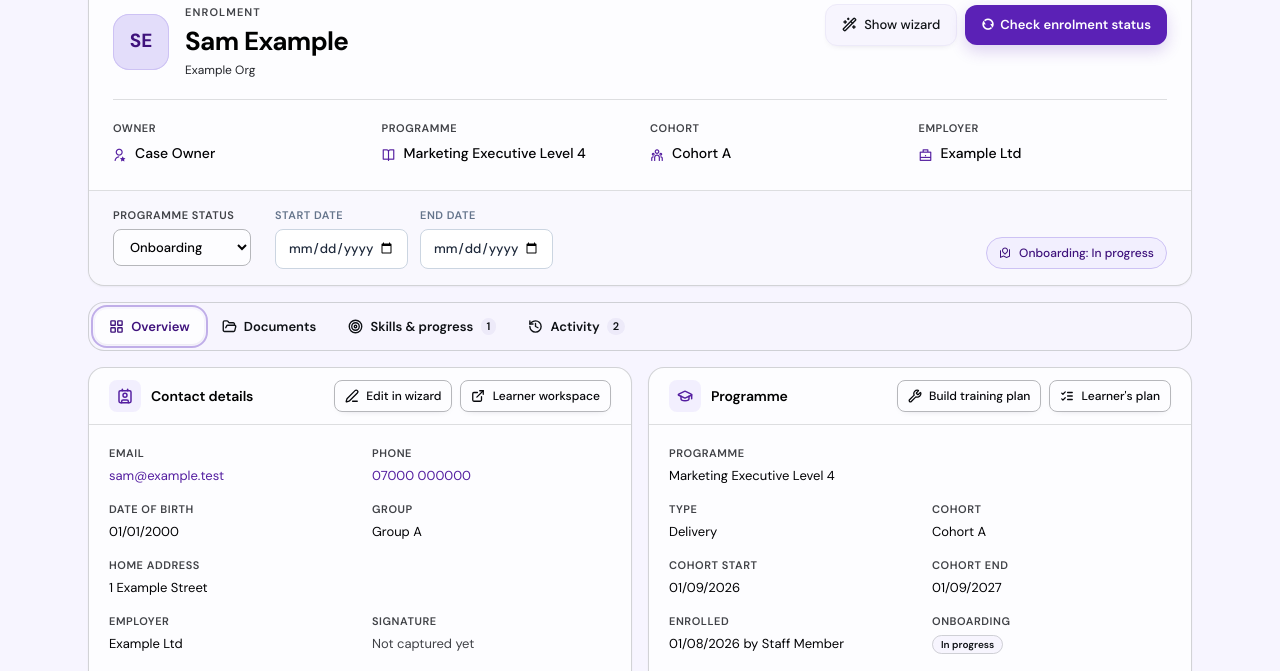
Test case: the enrolment board › switches tabs from the keyboard and keeps the tab in the address
expect the heading "Sam Example" is shown: met, box [185,24,348,57]
Press ArrowRight in the tab "Overview", box [95,308,204,344]
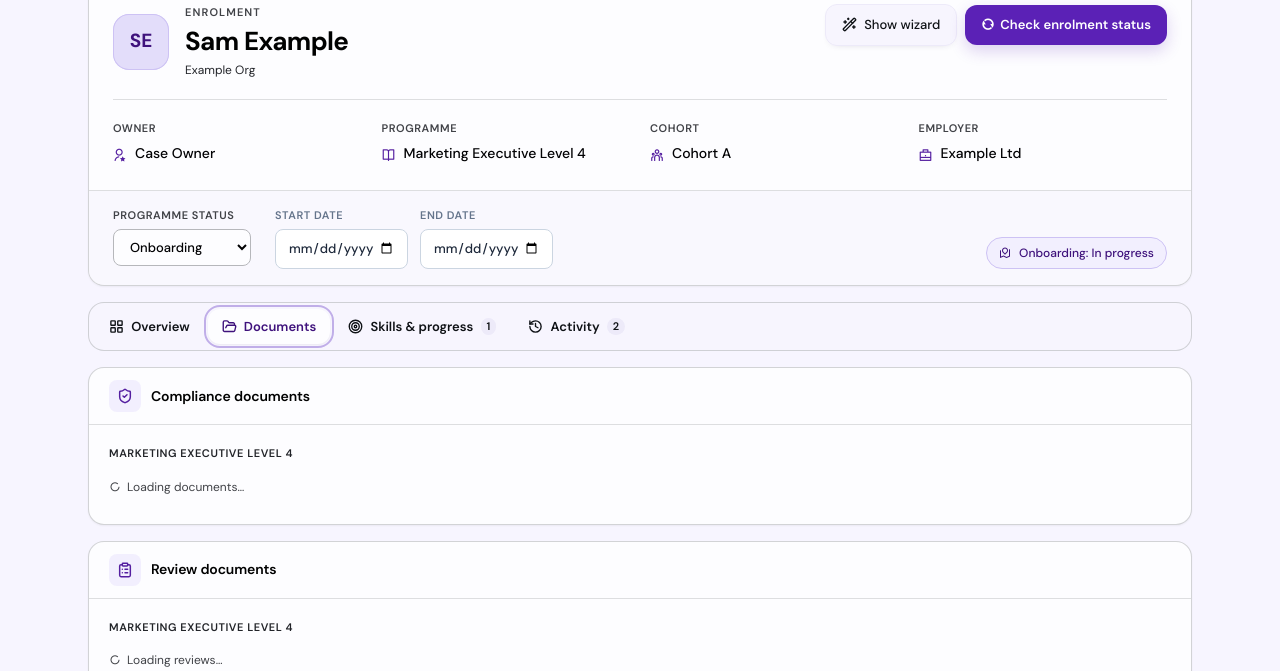
expect the tab "Documents" is selected: met, box [208,308,330,344]
Click the tab "Skills & progress 1".
click(422, 326)  # box [334,308,510,344]
(page scrolled)
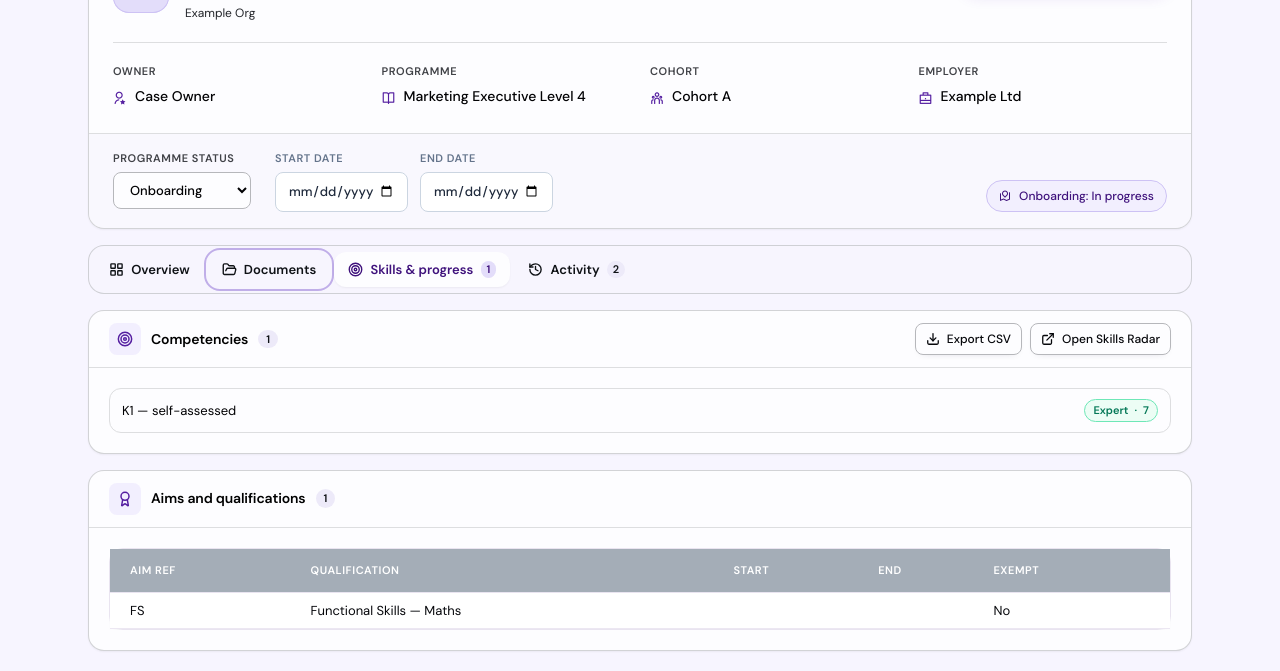
expect the text "K1 — self-assessed" is shown: met, box [122,400,236,420]
expect the text "Expert · 7" is shown: met, box [1084,399,1158,422]
expect the element "Aims and qualifications" is shown: met, box [88,470,1192,651]
